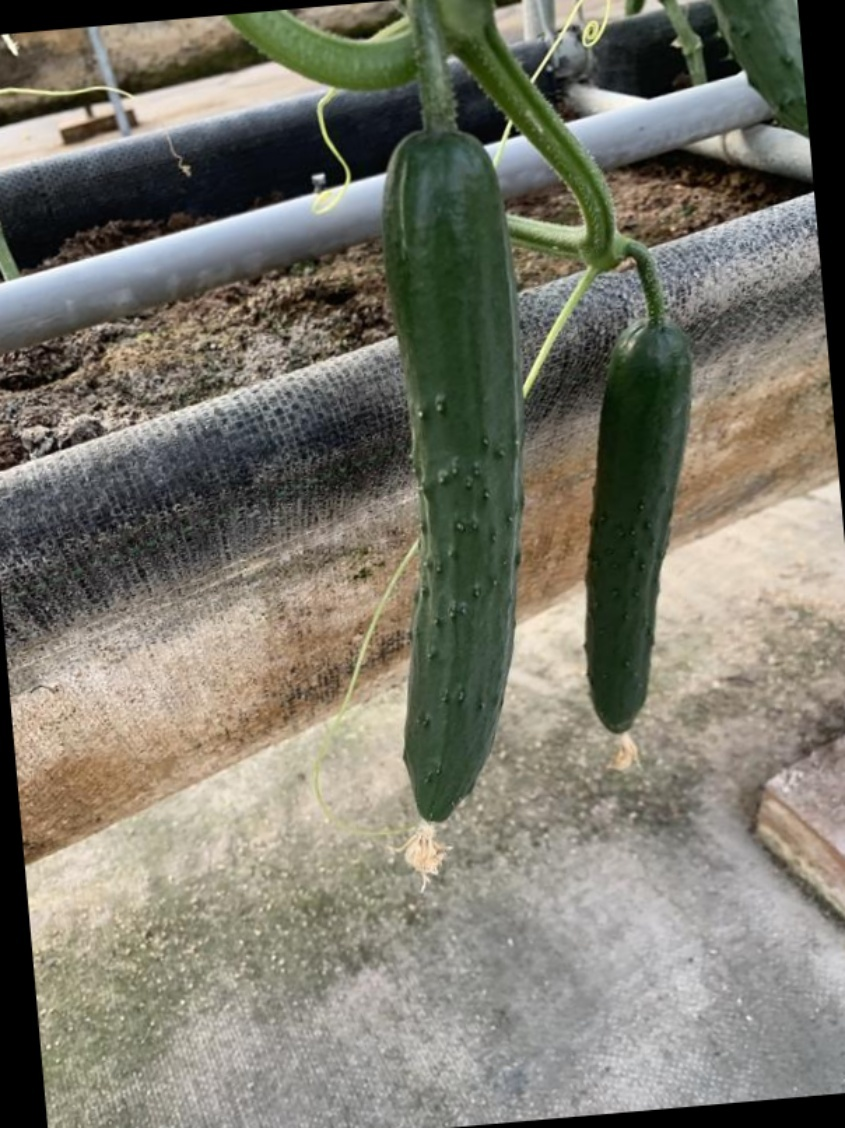mature: (575, 315, 699, 754)
